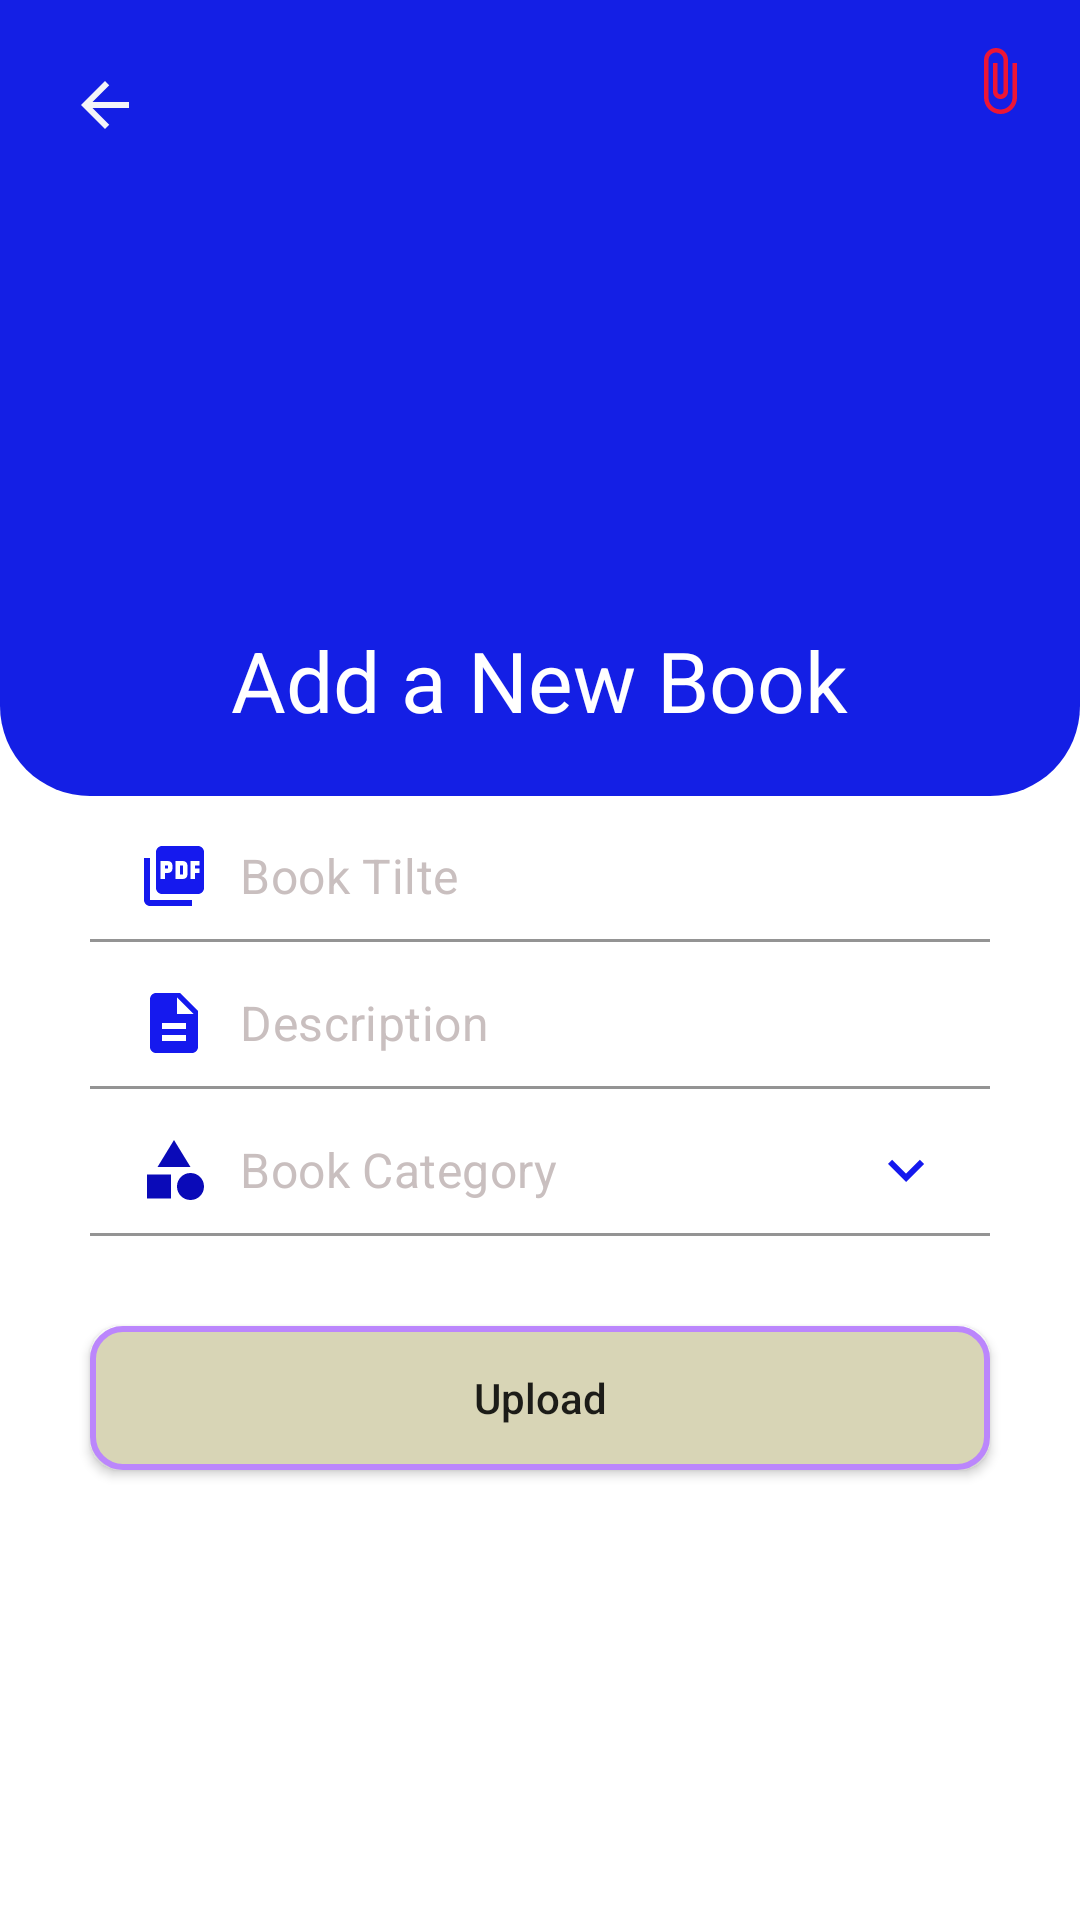

Icon click points for this 1080 × 1920 phone screenshot, format (x,y):
arrow back: (105,105)
attach file: (1000,81)
